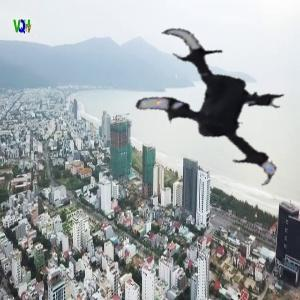drone: (113, 18, 300, 205)
